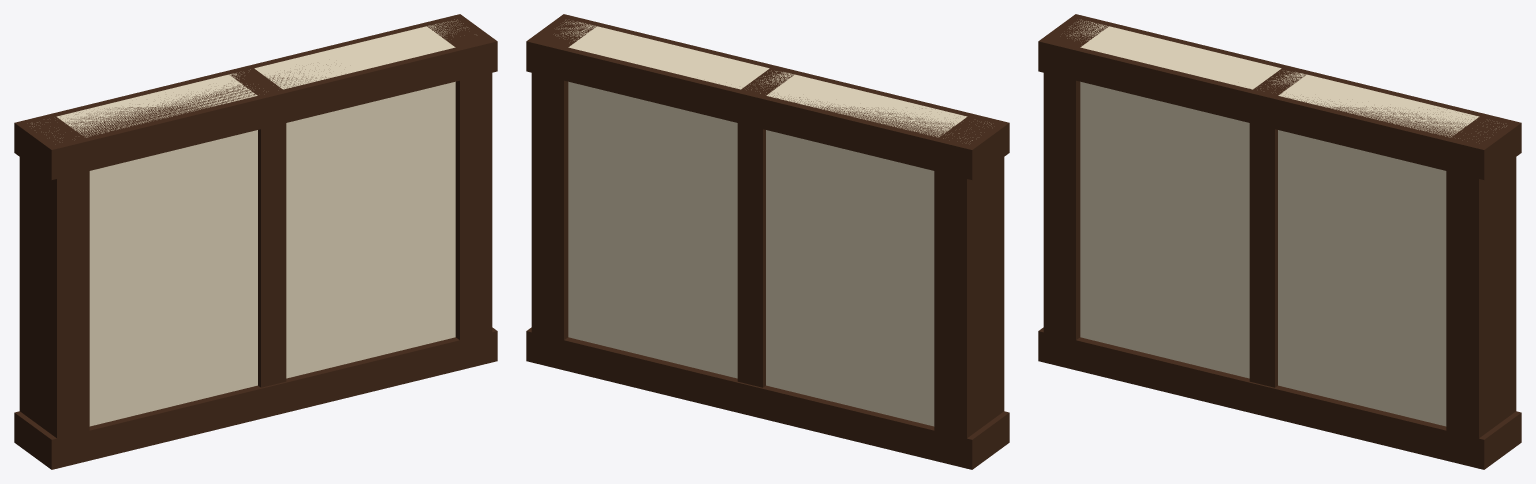
File: timber_wall.glb
3 renders of one model, left to right at view 1: azimuth 30°, elevation 25°; view 2: azimuth 150°, elevation 25°; view 3: azimuth 330°, elevation 25°, orthographic.
Parts seen in each view (by area): view 1: wall_plaster, beam_top, post, beam_bot, post.001, mid_post; view 2: wall_plaster, beam_top, post, beam_bot, post.001, mid_post; view 3: wall_plaster, beam_top, post.001, beam_bot, post, mid_post.
Part boxes in pixels (<box>): wall_plaster: <box>32,19,467,426</box>; beam_top: <box>14,14,497,179</box>; post: <box>19,113,89,461</box>; beam_bot: <box>14,327,497,469</box>; post.001: <box>423,15,492,370</box>; mid_post: <box>226,66,286,387</box>; wall_plaster: <box>555,20,991,426</box>; beam_top: <box>526,14,1009,179</box>; post: <box>934,113,1004,461</box>; beam_bot: <box>526,327,1009,469</box>; post.001: <box>531,15,600,369</box>; mid_post: <box>737,66,797,387</box>; wall_plaster: <box>1067,19,1506,426</box>; beam_top: <box>1038,14,1521,179</box>; post.001: <box>1446,113,1516,461</box>; beam_bot: <box>1038,327,1521,469</box>; post: <box>1043,15,1112,369</box>; mid_post: <box>1249,66,1309,387</box>.
Size of the model in its own units: 1.24 by 0.85 by 0.18.
